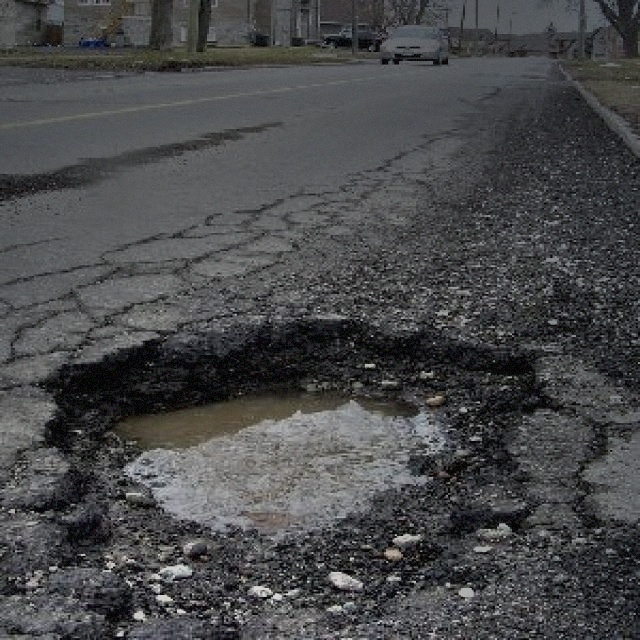pothole: (32, 314, 546, 638)
